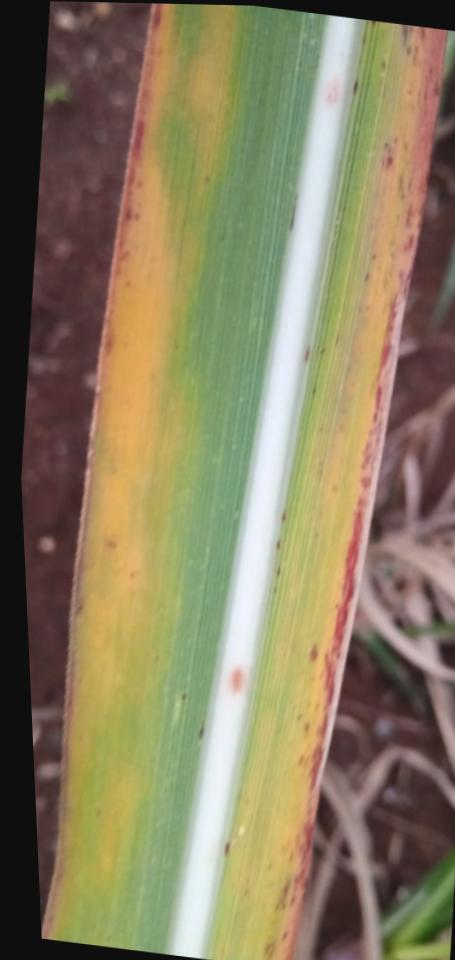RedRot: (324, 79, 338, 108), (231, 667, 244, 696), (222, 841, 231, 857)
Rust: (297, 271, 411, 793), (68, 3, 161, 618), (292, 824, 312, 904), (379, 136, 399, 171), (285, 191, 299, 235), (273, 879, 290, 912), (400, 25, 412, 56), (393, 173, 405, 202), (195, 717, 206, 746), (414, 202, 424, 231), (403, 202, 413, 229), (262, 940, 275, 960), (402, 232, 413, 255), (302, 344, 311, 365), (411, 45, 419, 68), (277, 508, 288, 524), (293, 829, 301, 849), (309, 645, 317, 664), (431, 79, 439, 97), (274, 565, 283, 579), (351, 78, 358, 95), (287, 896, 296, 909), (303, 722, 310, 737), (179, 692, 188, 703), (269, 585, 278, 596), (419, 28, 425, 43), (274, 540, 281, 552), (152, 654, 160, 664), (287, 852, 293, 865), (379, 62, 386, 73), (280, 931, 287, 941), (363, 273, 370, 282), (369, 253, 377, 260), (360, 37, 366, 46), (370, 21, 376, 29), (318, 348, 324, 355), (296, 714, 302, 721), (311, 388, 315, 396), (314, 703, 319, 709), (243, 889, 248, 895)
Yellow: (75, 4, 173, 629), (185, 5, 231, 197)
